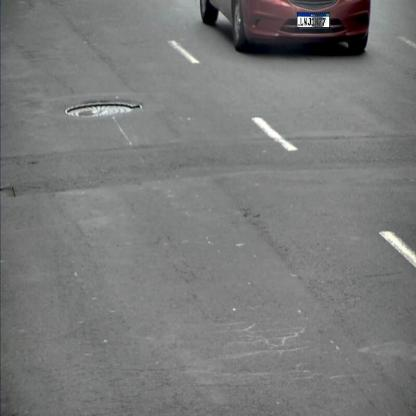PlacaM: (297, 12, 330, 28)
